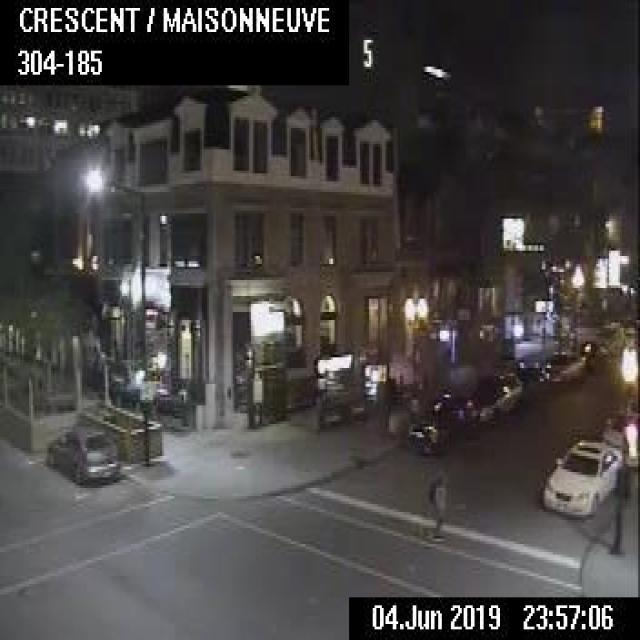pedestrian: (429, 475, 446, 536), (407, 388, 416, 422)
vehicle: (541, 438, 623, 516), (45, 422, 122, 486), (466, 370, 522, 416), (430, 388, 477, 432), (406, 416, 444, 453), (542, 348, 585, 379), (513, 359, 550, 394), (579, 336, 614, 369)
